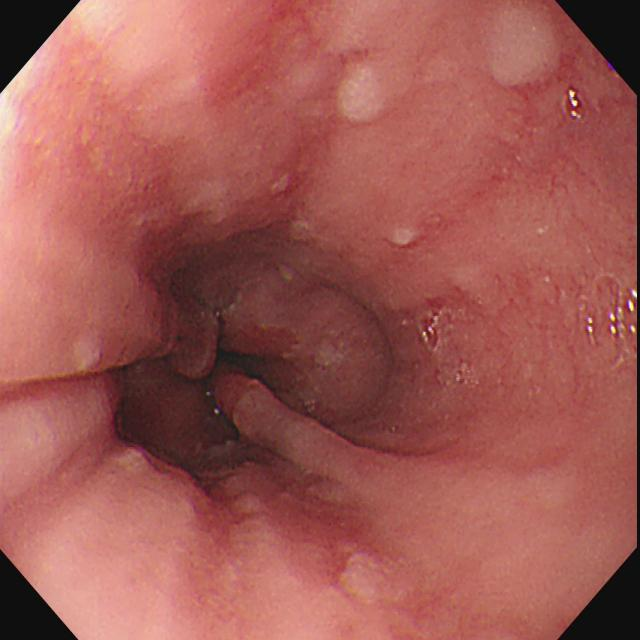D: (253, 470, 363, 565)
I: (120, 238, 379, 478)
J: (323, 52, 419, 140), (478, 5, 567, 96), (332, 541, 402, 614)
T: (582, 275, 638, 357), (561, 87, 591, 128), (420, 312, 444, 353)
